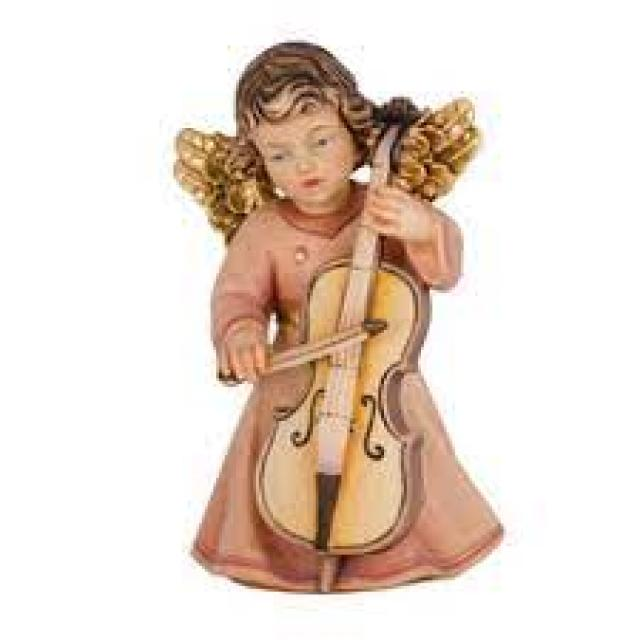angel: (151, 24, 559, 602)
